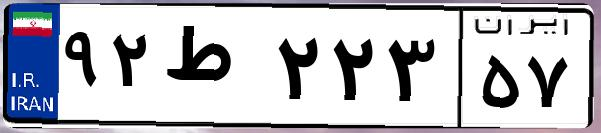2: (270, 28, 330, 110), (330, 28, 385, 110), (110, 28, 158, 98)
3: (385, 28, 445, 110)
5: (475, 38, 525, 113)
7: (525, 38, 570, 115)
9: (57, 26, 110, 100)
ط: (158, 20, 270, 120)
